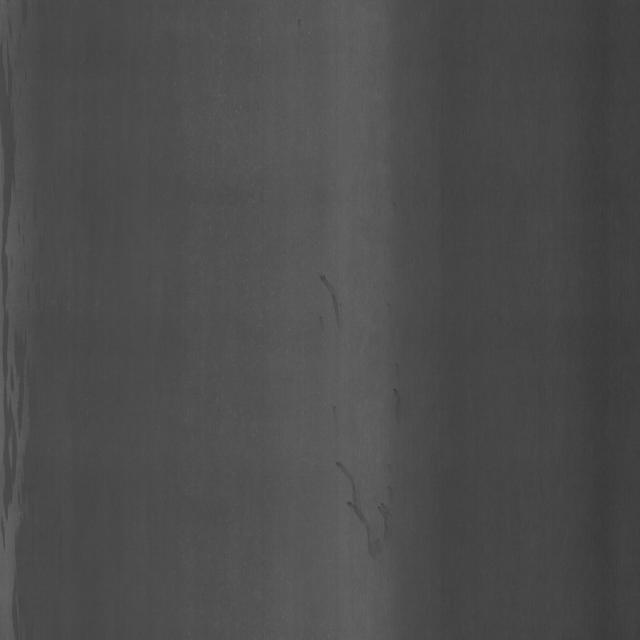water_spot: (335, 445, 415, 578)
